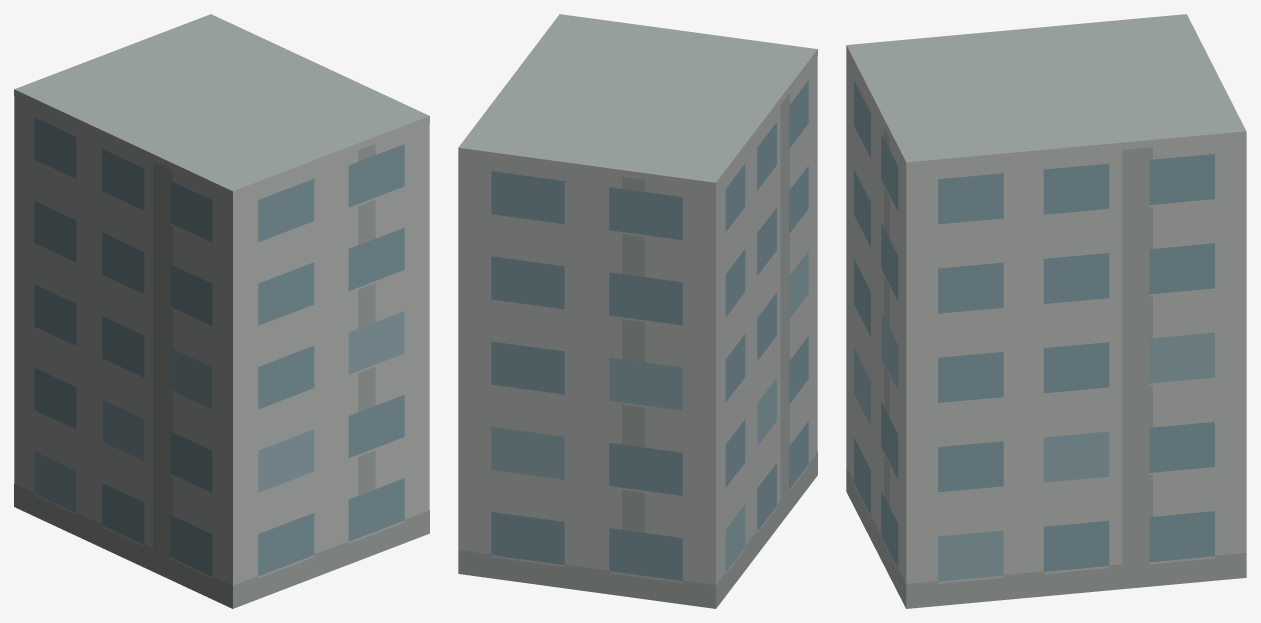
File: survey-upis-32808610.glb
The picture shows the model from 3 angles, left to right: view 1: azimuth 30°, elevation 25°; view 2: azimuth 150°, elevation 25°; view 3: azimuth 270°, elevation 25°; orthographic projection. The views are drawn at different scales.
Visible parts, largest first — view 1: survey-upis-32808610.tmp; view 2: survey-upis-32808610.tmp; view 3: survey-upis-32808610.tmp.
Boxes of the visible parts, x1,y1,x2,y2 form: survey-upis-32808610.tmp: [14, 14, 429, 608]; survey-upis-32808610.tmp: [458, 14, 817, 608]; survey-upis-32808610.tmp: [846, 14, 1246, 608].
Bounding box in the file's own units: 10.41 × 14.6 × 11.87.
